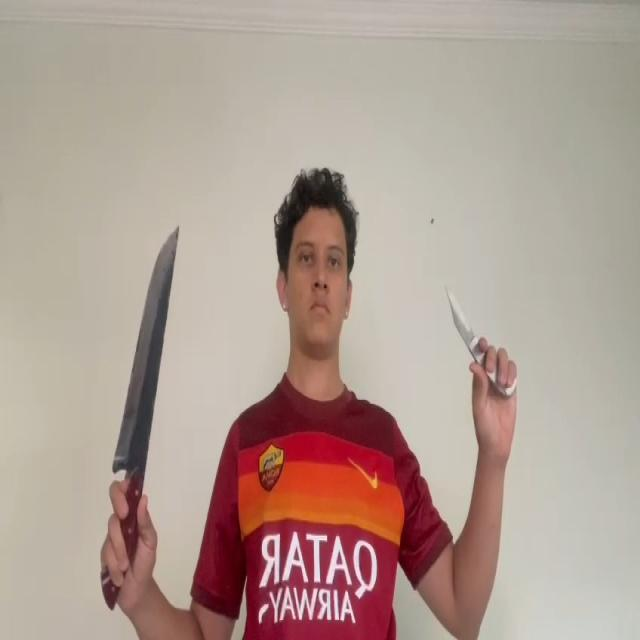knife: (112, 226, 179, 474), (443, 286, 475, 346)
